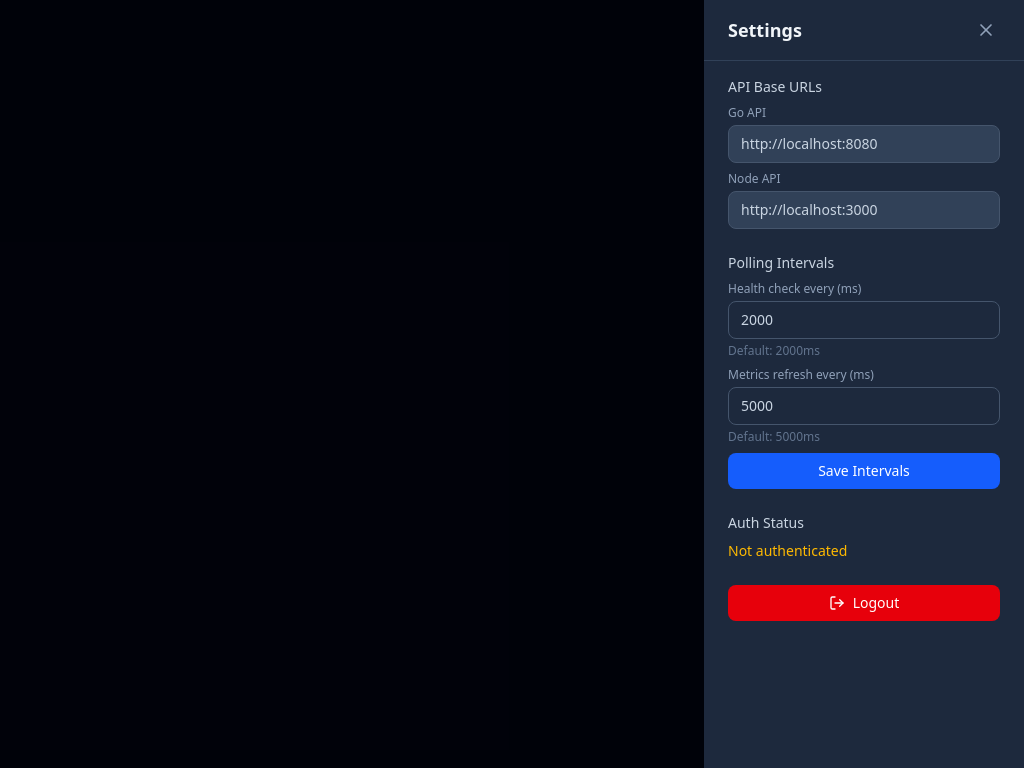
Test: SettingsPanel › shows validation error when interval is below 1000ms
The image size is (1024, 768).
Replace the text in the number field labelled "Health check every (ms)" with "500": (864, 320) [728, 301, 1000, 339]
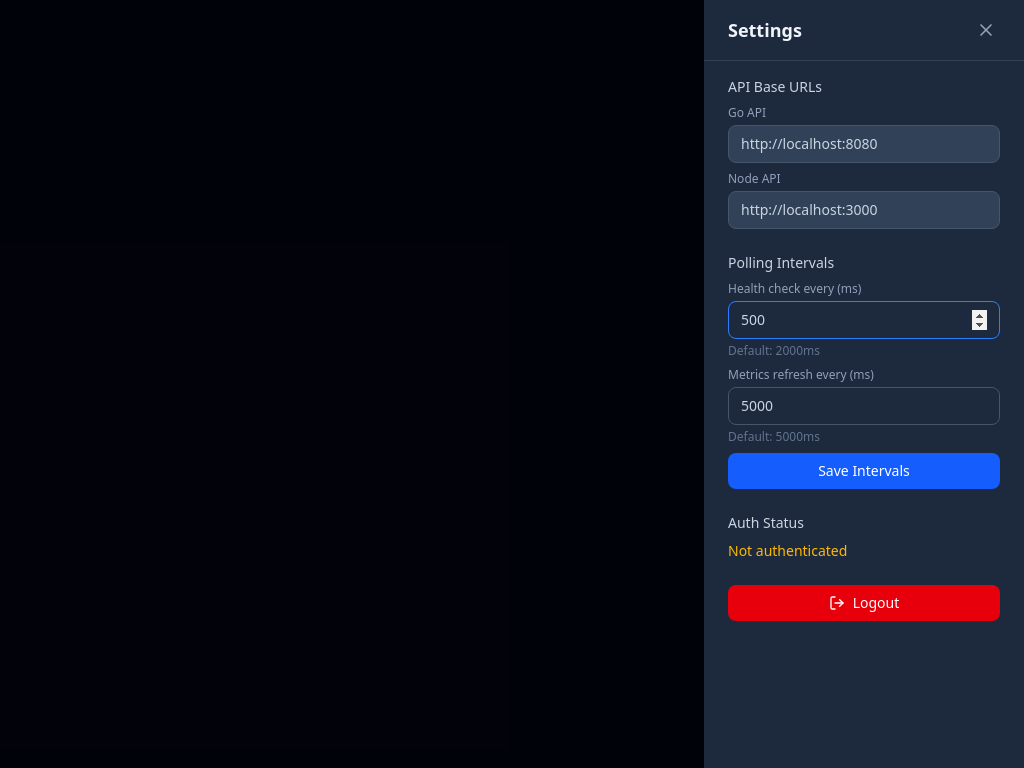
Click the button "Save Intervals": (864, 471) [728, 453, 1000, 489]
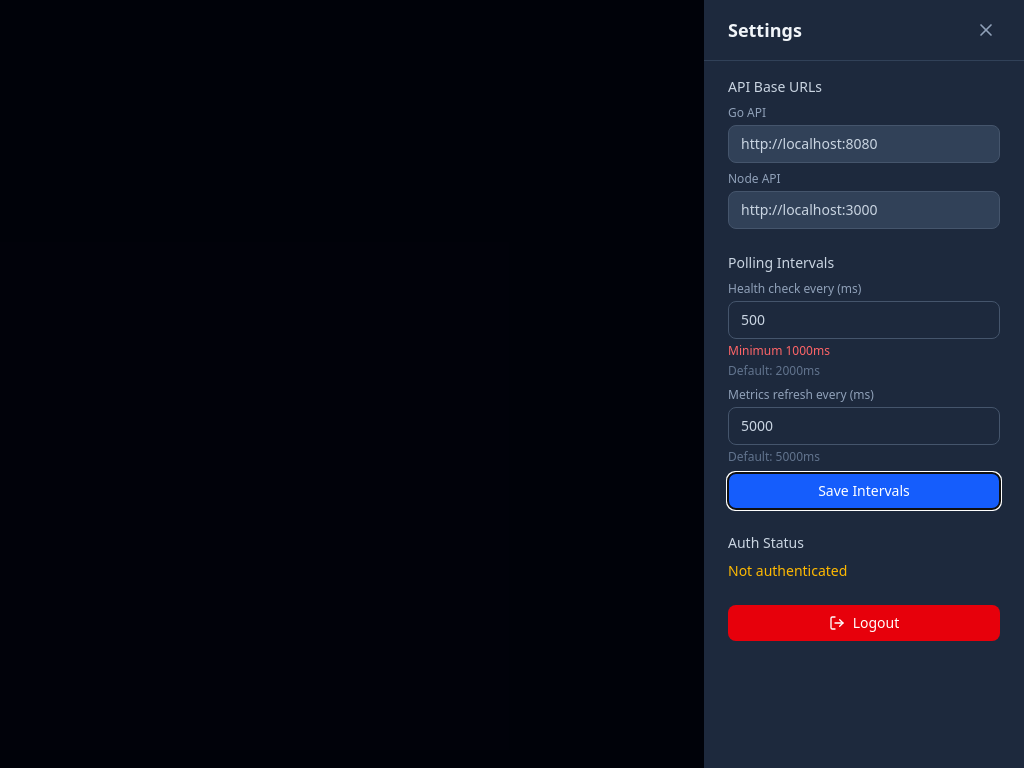
Expected: the text with test id "health-interval-error" reads "Minimum 1000ms", [728, 342, 830, 359]
